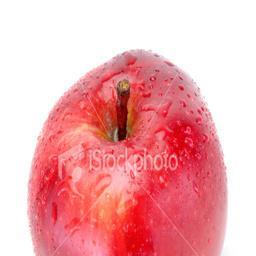apple: (26, 50, 231, 254)
